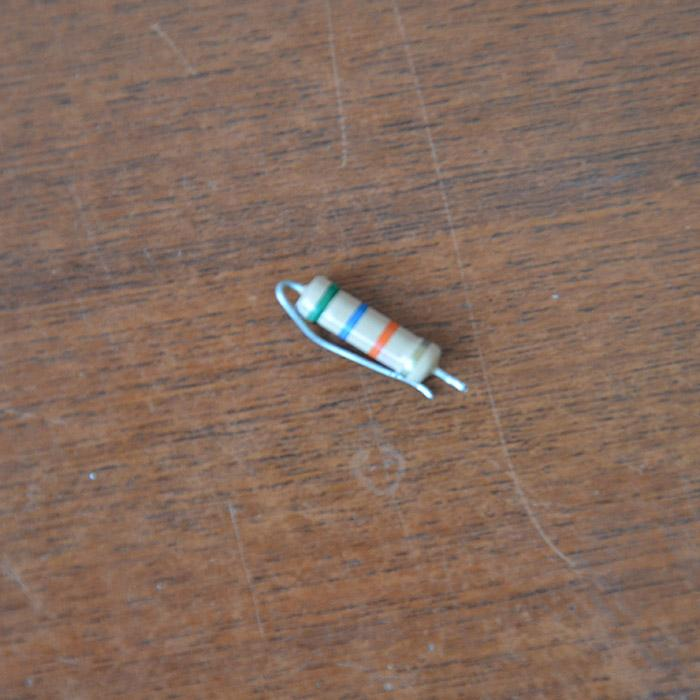resistor: (293, 275, 442, 383)
